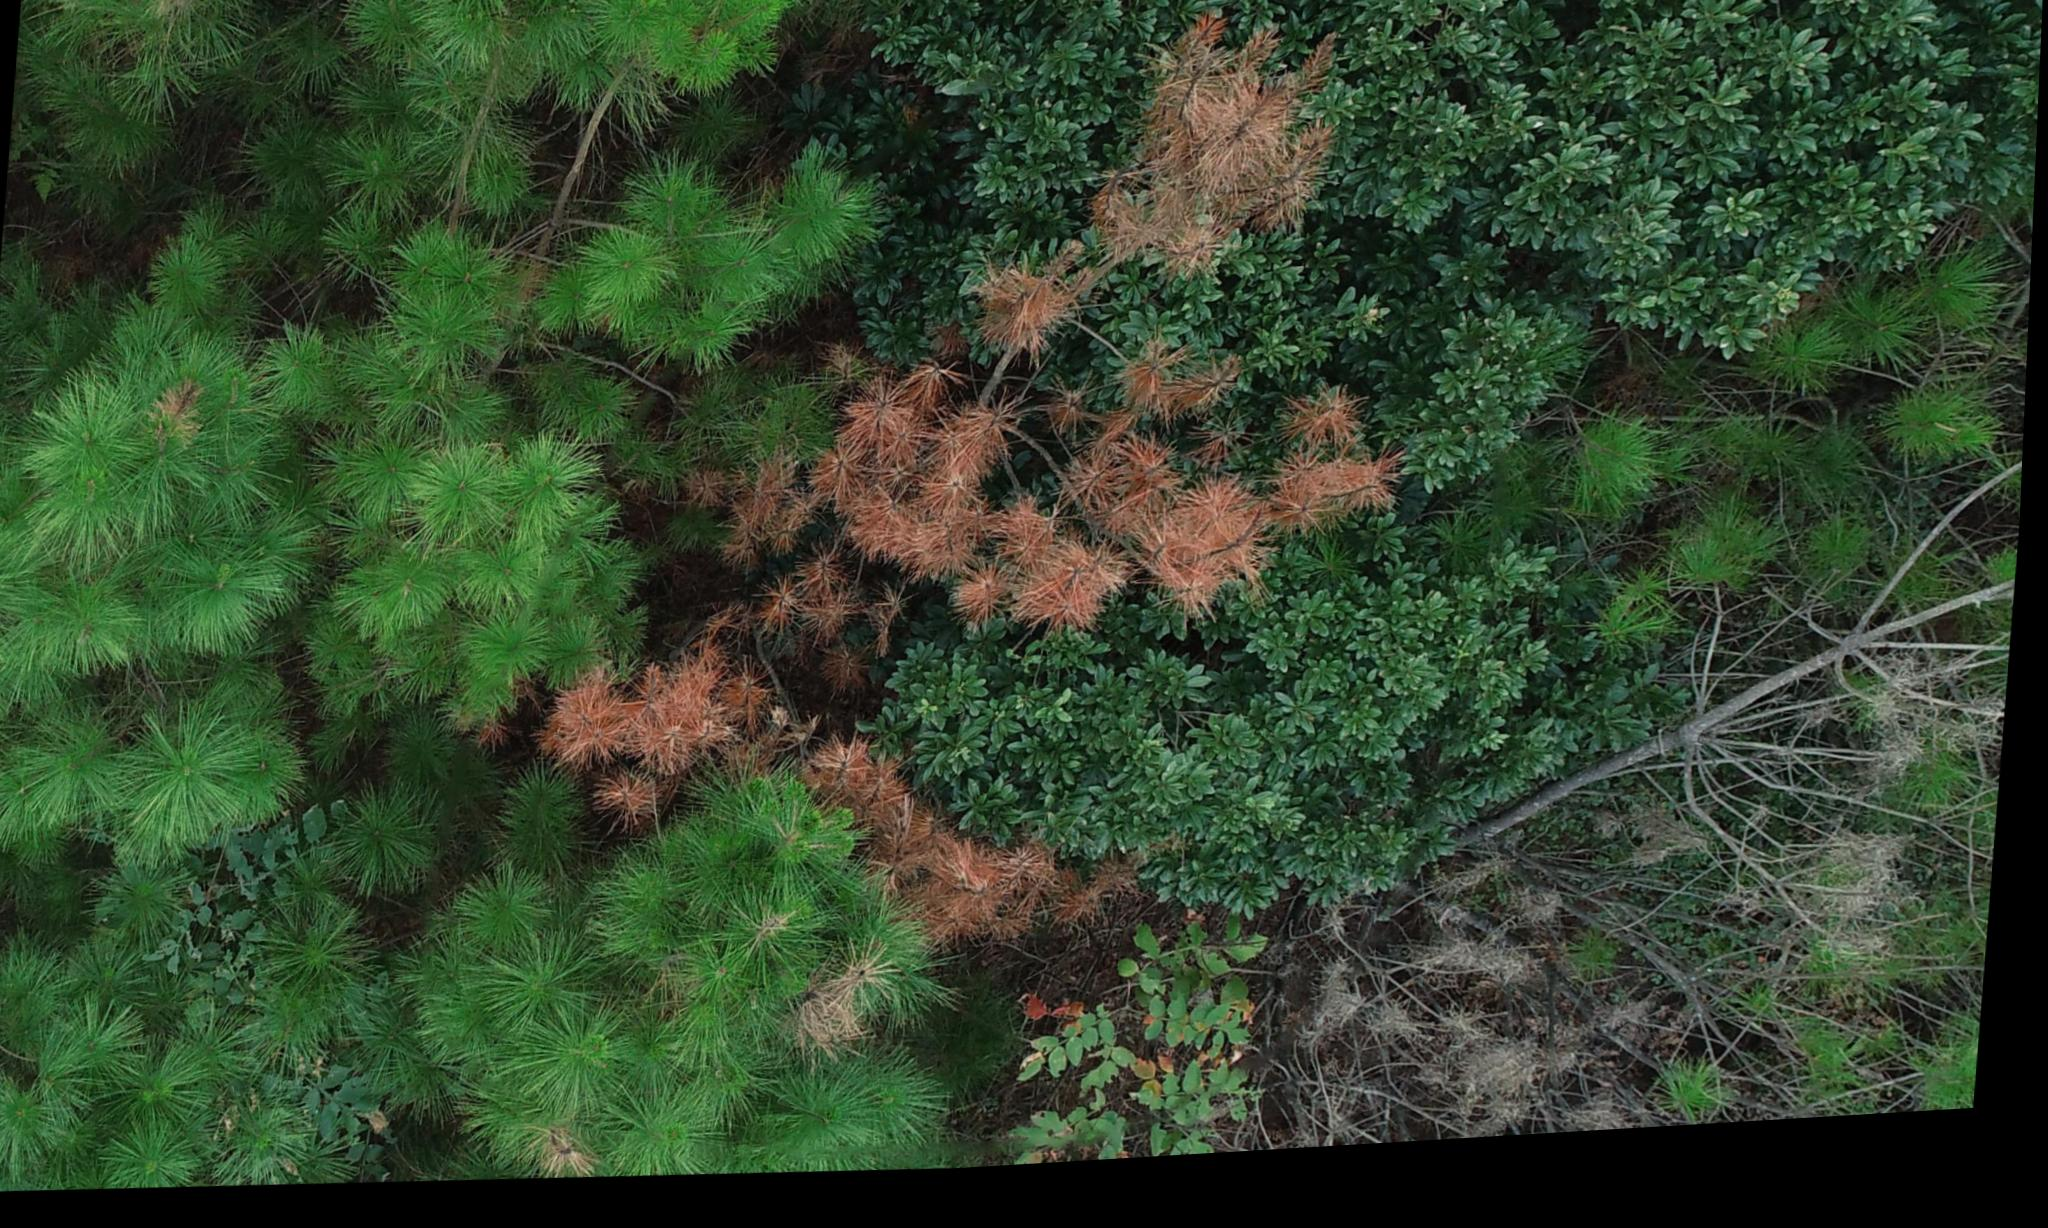heavy: (727, 345, 1399, 662), (810, 746, 1149, 966), (1095, 48, 1330, 275), (539, 659, 775, 846), (993, 284, 1077, 360)
